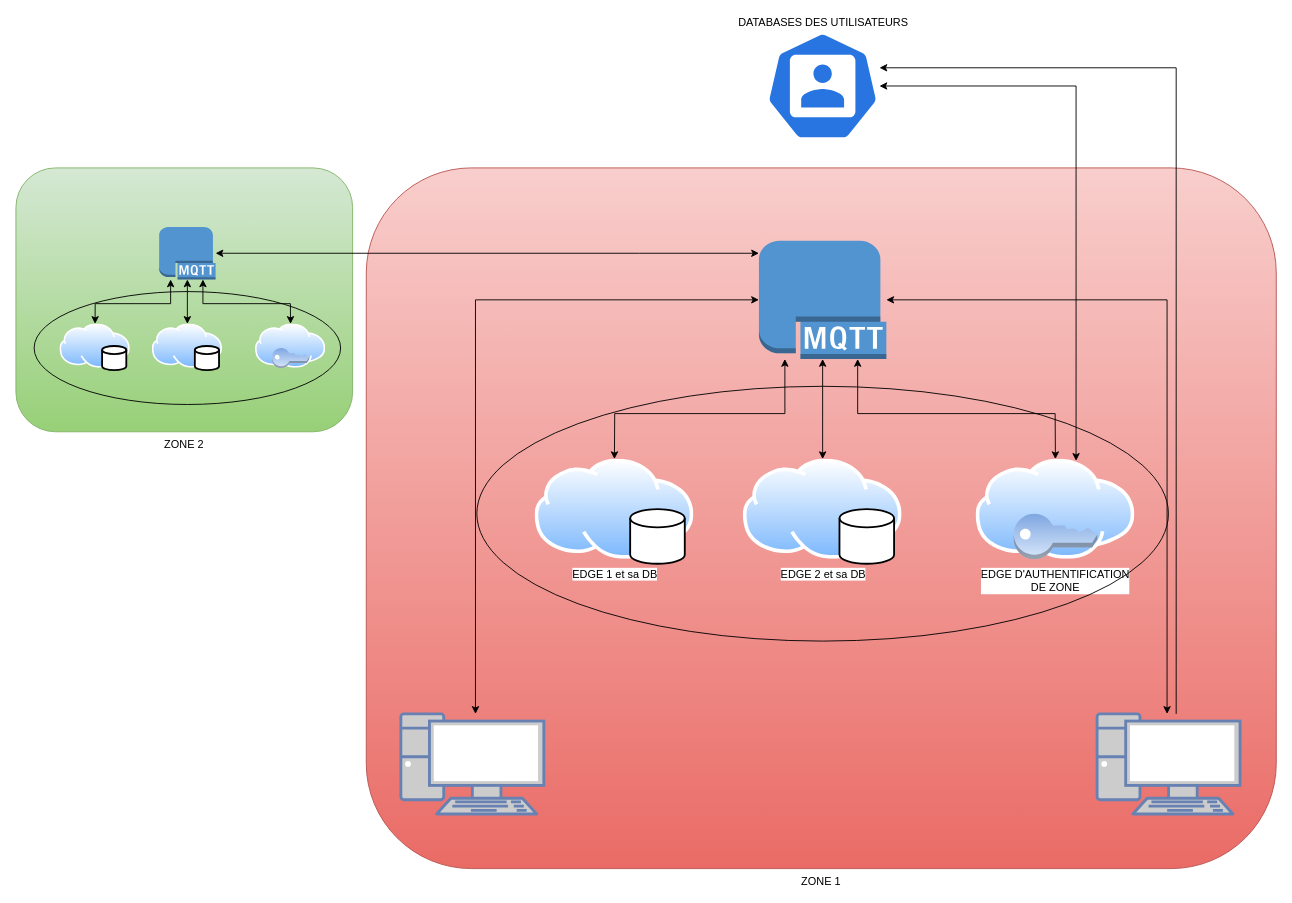
The diagram is 1292 pixels wide and 903 high, and some of its shapes have lost their labels. The centre of each missing label's shape, as x and y in pixels:
BROKER MQTT (Mosquitto): point 822,299
CLIENT: point 471,763
STREAMER: point 1168,763
